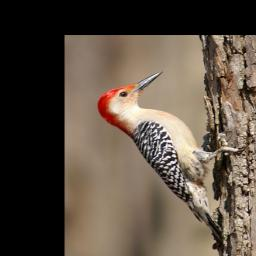Woodpecker: (93, 70, 248, 243)
